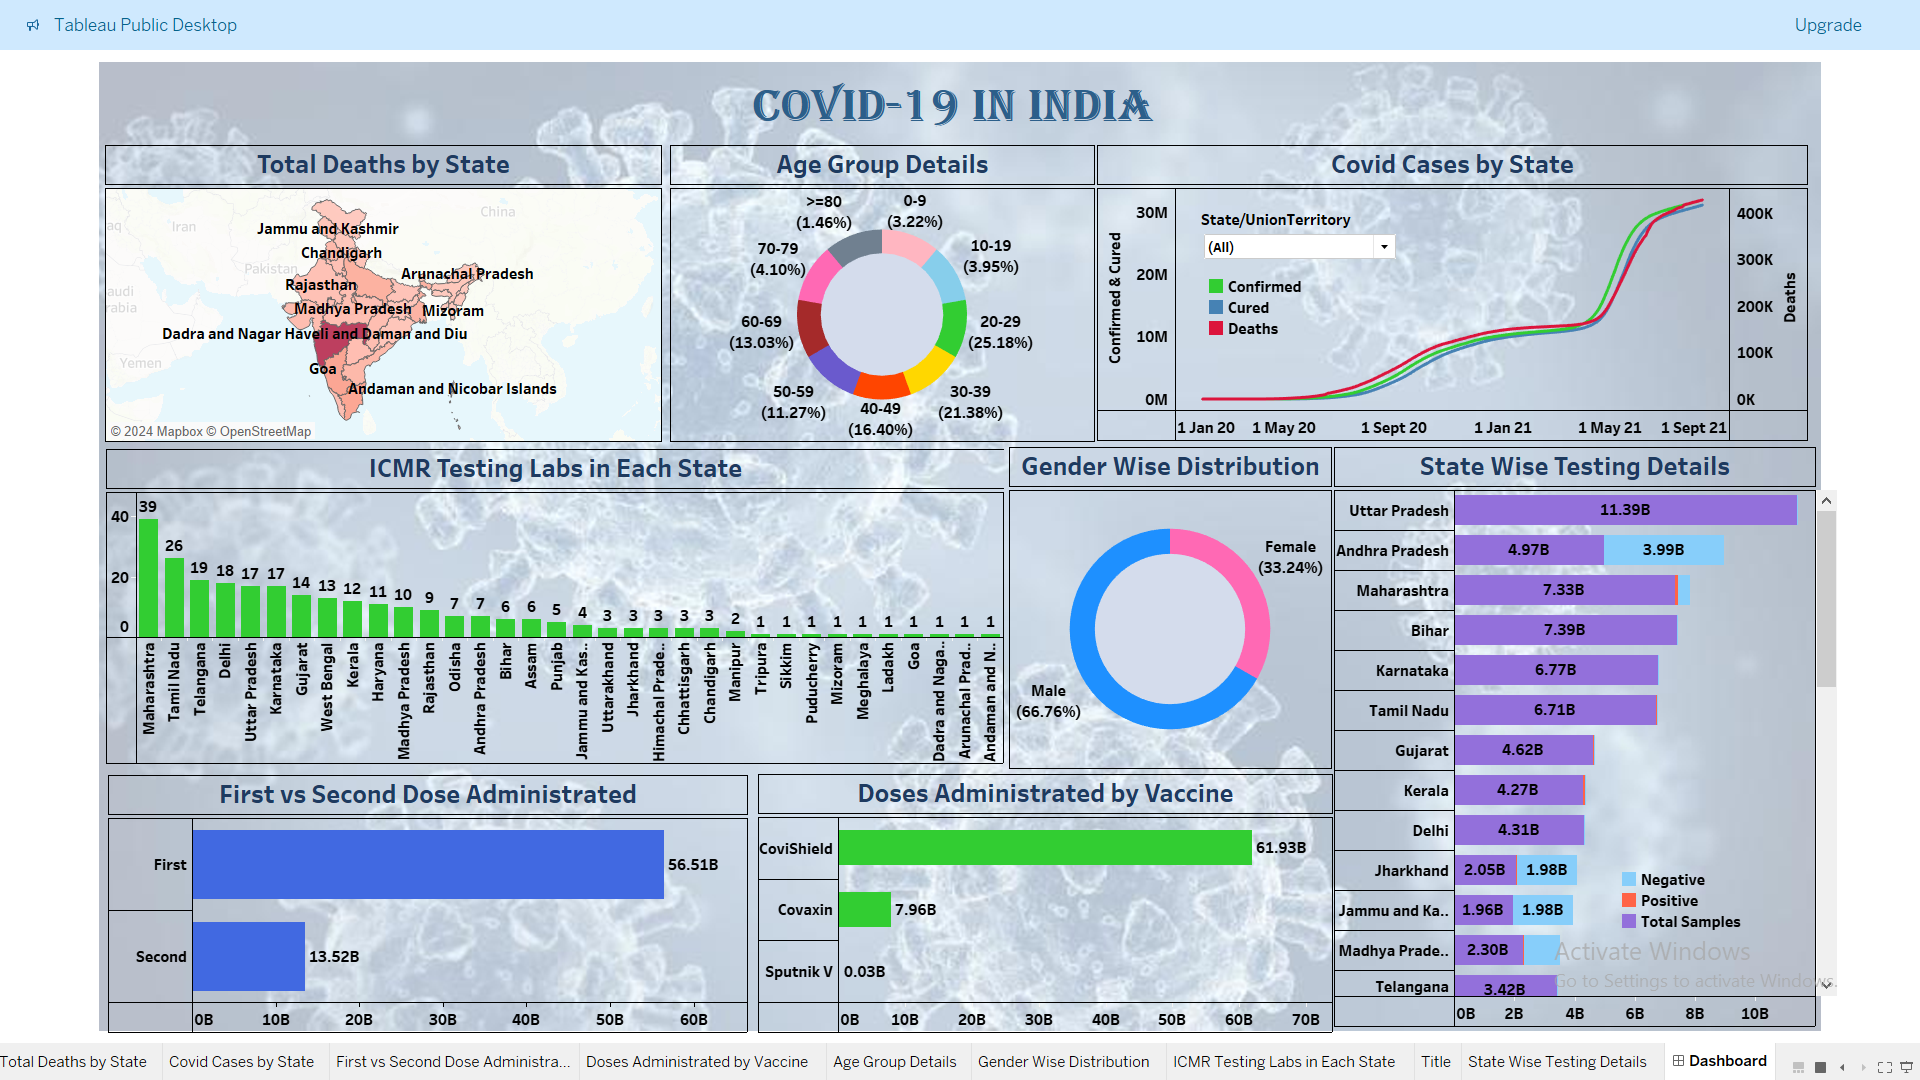

The page's visual inventory and layout, read from the dashboard file:
{"tool":"tableau","page":{"name":"Dashboard","canvas":[1000,1000],"units":"permille","ordinal":0},"visuals":[{"type":"image","param":"Image/Untitled presentation (6).jpg","box":[4.8,9.7,990.3,980.6]},{"type":"text","box":[63.9,18.2,864.8,75.3]},{"type":"worksheet","title":"Total Deaths by State","mark":"Multipolygon","box":[55.1,96,290.2,305]},{"type":"worksheet","title":"Age Group Details","mark":"Pie","rows":["Calculation_546342955725176833","Calculation_546342955725176833"],"box":[348.9,96,221.4,298.9]},{"type":"worksheet","title":"Covid Cases by State","mark":"Automatic","rows":["Deaths"],"cols":["Date"],"box":[571.5,96,370.4,297.7]},{"type":"filter","title":"Covid Cases by State","param":"[federated.1dd5fbt0q5px111d6w0ji03sfi37].[none:State/UnionTerritory:nk]","box":[625.7,160.4,103.3,82.6]},{"type":"legend","title":"Covid Cases by State","param":"[federated.1dd5fbt0q5px111d6w0ji03sfi37].[:Measure Names]","box":[628.4,227.2,86.8,80.2]},{"type":"worksheet","title":"Gender Wise Distribution","mark":"Pie","rows":["Calculation_546342955729367045","Calculation_546342955729367045"],"box":[525.4,399.8,168.2,324.4]},{"type":"worksheet","title":"State Wise Testing Details","mark":"Automatic","rows":["State"],"box":[694.8,399.8,262.1,584.5]},{"type":"worksheet","title":"ICMR Testing Labs in Each State","mark":"Automatic","rows":["lab"],"cols":["state"],"box":[55.1,402.2,468,325.6]},{"type":"worksheet","title":"Doses Administrated by Vaccine","mark":"Automatic","box":[395,729,299.2,261.2]},{"type":"worksheet","title":"First vs Second Dose Administrated","mark":"Automatic","box":[56.2,730.3,333.3,260]},{"type":"legend","title":"State Wise Testing Details","param":"[federated.1s10vvh020tikh11xg4my1772ha1].[:Measure Names]","box":[843.1,825,85.7,105.7]}]}

Visuals, with their boxes on the dashboard's canvas, which has no fixed pixel size, in thousandths of its width and height (x1, y1, x2, y2). These are canvas units, not pixel positions in the 1920x1080 screenshot, which may show the page scaled, cropped or inside an application window:
image: 5, 10, 995, 990
text: 64, 18, 929, 94
"Total Deaths by State" worksheet (Multipolygon marks): 55, 96, 345, 401
"Age Group Details" worksheet (Pie marks): 349, 96, 570, 395
"Covid Cases by State" worksheet: 572, 96, 942, 394
"Covid Cases by State" filter: 626, 160, 729, 243
"Covid Cases by State" legend: 628, 227, 715, 307
"Gender Wise Distribution" worksheet (Pie marks): 525, 400, 694, 724
"State Wise Testing Details" worksheet: 695, 400, 957, 984
"ICMR Testing Labs in Each State" worksheet: 55, 402, 523, 728
"Doses Administrated by Vaccine" worksheet: 395, 729, 694, 990
"First vs Second Dose Administrated" worksheet: 56, 730, 390, 990
"State Wise Testing Details" legend: 843, 825, 929, 931
